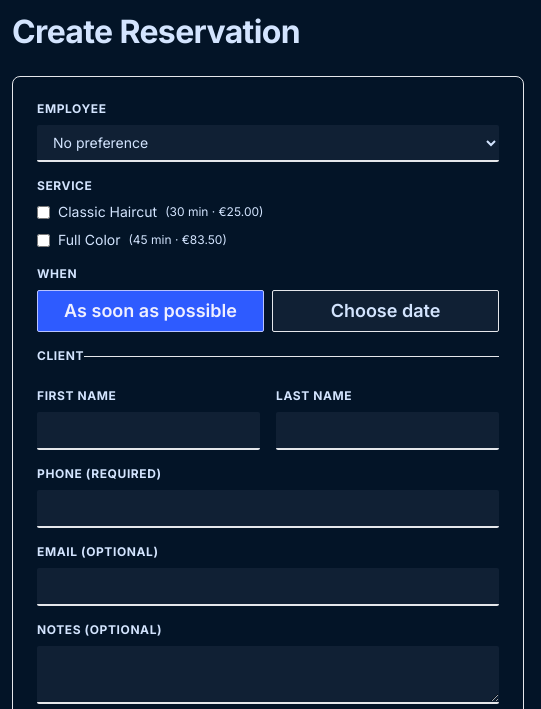
CreateReservation (crear) › error de availability → mensaje con role=alert
Select "Employee Demo" in the dropdown labelled "Employee": (268, 144) [37,125,499,162]
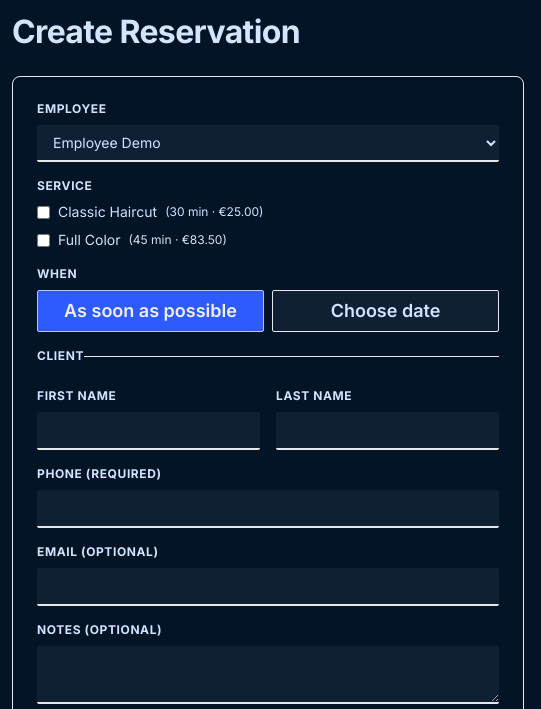
Click the checkbox labelled "Classic Haircut (30 min · €25.00)": (44, 212) [37,206,50,218]
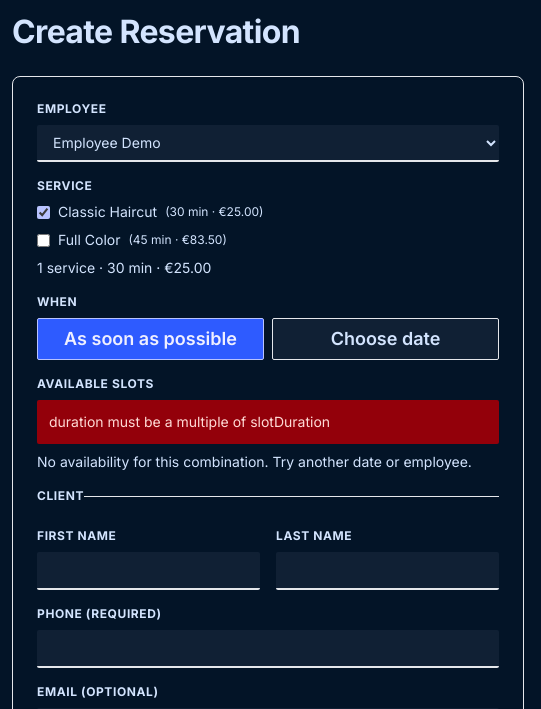
expect the text "duration must be a multiple of slotDuration" is shown: met, box [37,400,499,444]
